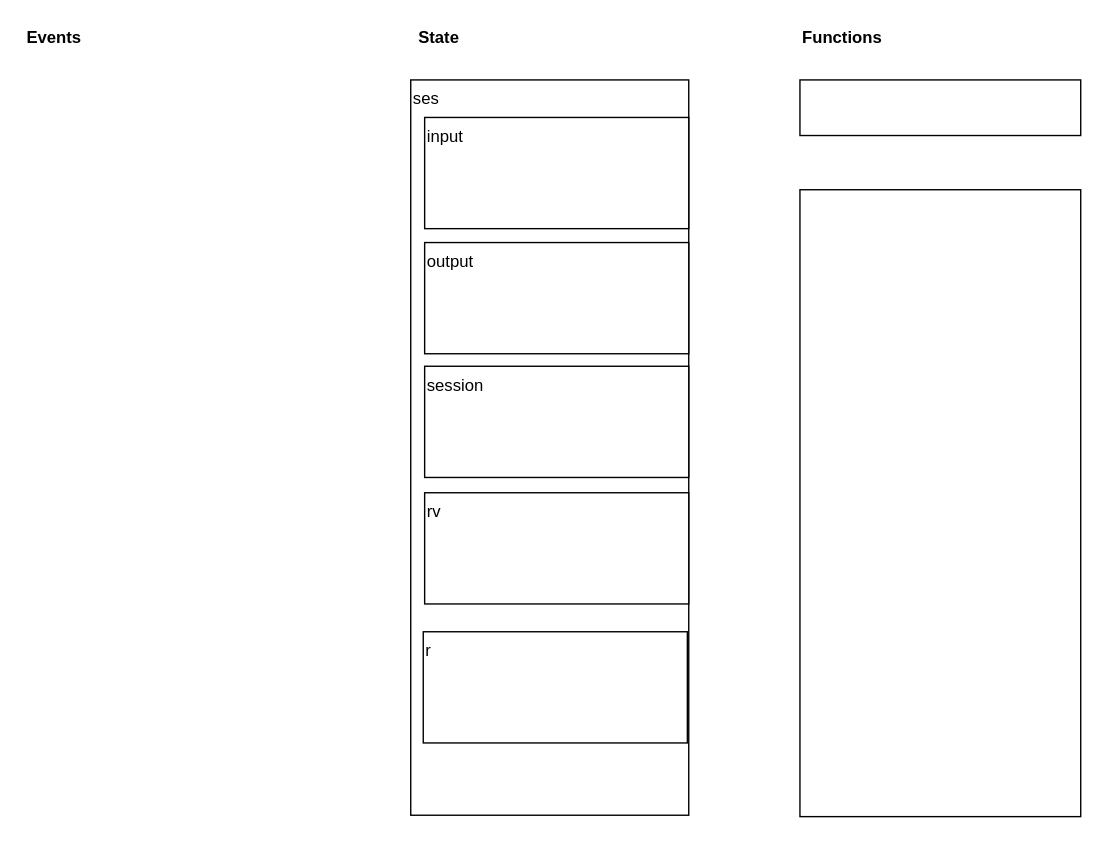
Some shapes in this 1105 by 841 pixel diagram are drawn without their labels. Here are the shapes that lost their labels. From the top down, the centre of each, then its label:
At point (940, 107): ".onLoad".
At point (940, 502): "server".
